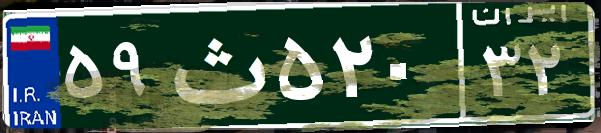0: (385, 28, 445, 110)
2: (330, 28, 385, 110), (525, 38, 570, 115)
3: (475, 38, 525, 113)
5: (273, 28, 330, 110), (57, 26, 110, 107)
9: (110, 28, 158, 105)
ث: (158, 15, 273, 115)
